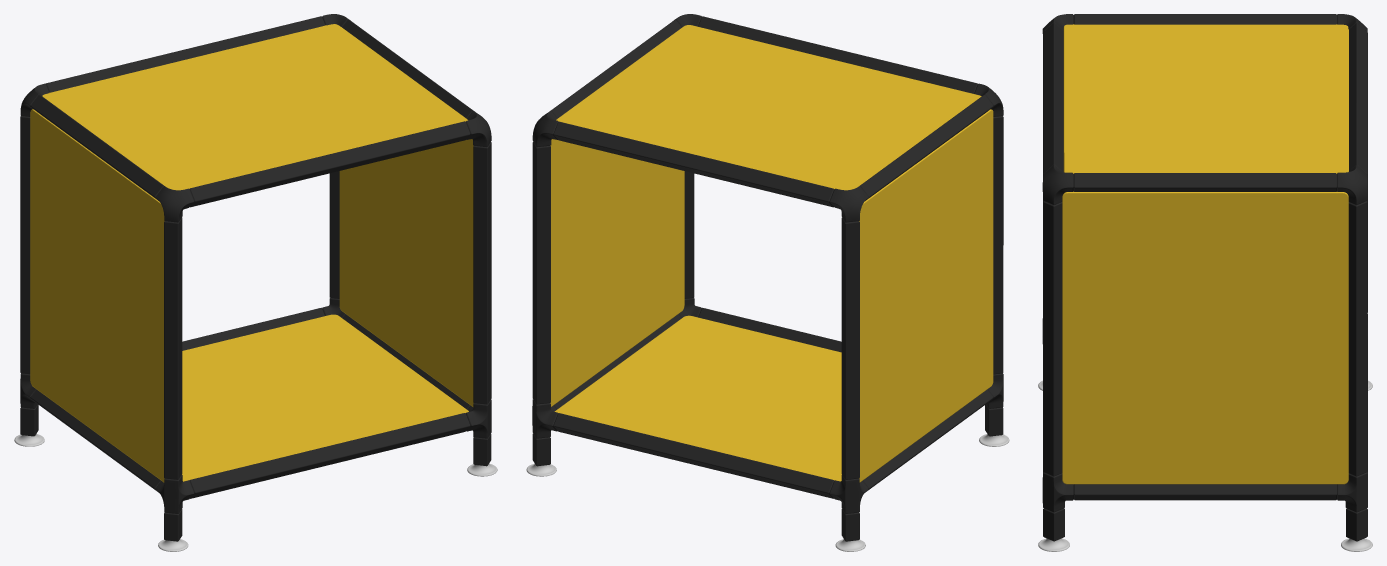
3 renders of one model, left to right at view 1: azimuth 30°, elevation 25°; view 2: azimuth 150°, elevation 25°; view 3: azimuth 270°, elevation 25°, orthographic. The views are drawn at different scales.
Parts seen in each view (by area): view 1: 420x329x374; view 2: 420x329x374; view 3: 420x329x374.
Part boxes in pixels (box(x1,y1,x2,y2)): 420x329x374: box(14, 14, 497, 551); 420x329x374: box(526, 14, 1009, 551); 420x329x374: box(1038, 14, 1372, 551).
Size of the model in its own units: 0.5099 by 0.5133 by 0.4183.
